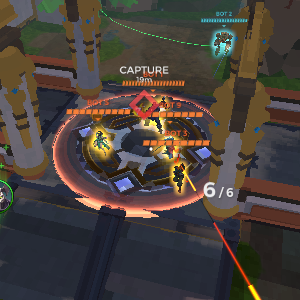model: (145, 100, 162, 131), (172, 163, 186, 194), (92, 128, 108, 154), (161, 136, 177, 158)
